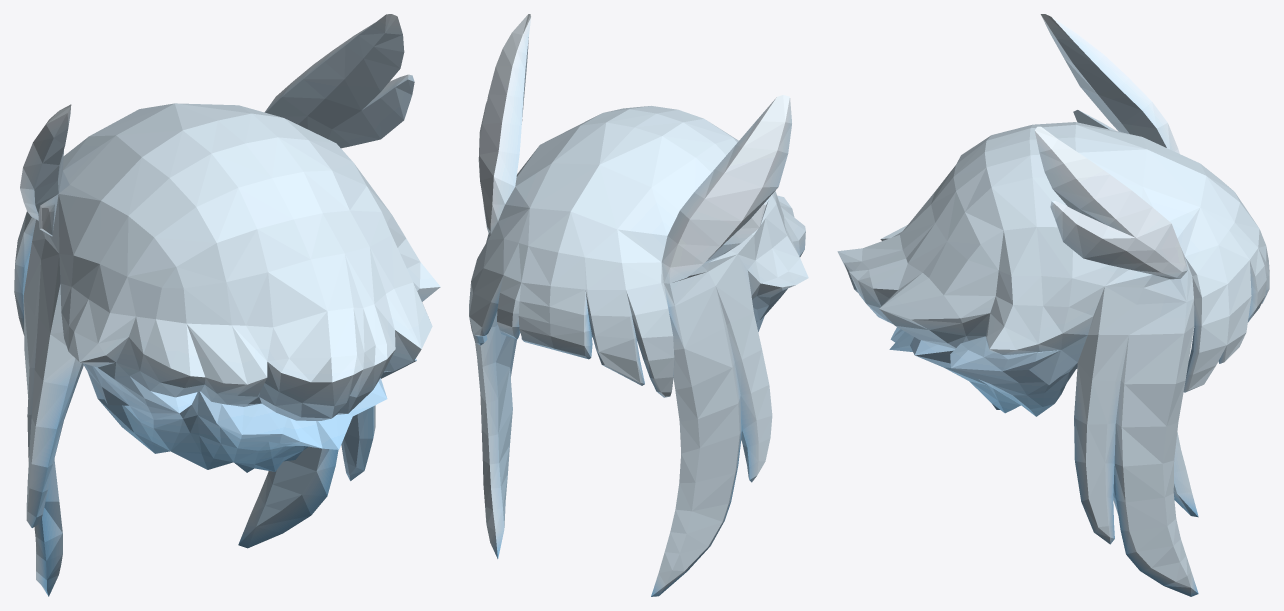
The model's file is CharSkyKid_Hair_AP30TaperDirector.glb.
3 views of the same model, side by side, from view 1: azimuth 30°, elevation 25°; view 2: azimuth 150°, elevation 25°; view 3: azimuth 270°, elevation 25° (orthographic). The views are drawn at different scales.
Visible parts, largest first — view 1: CharSkyKid_Hair_AP30TaperDirector; view 2: CharSkyKid_Hair_AP30TaperDirector; view 3: CharSkyKid_Hair_AP30TaperDirector.
Boxes of the visible parts, left/top/right/bottom form: CharSkyKid_Hair_AP30TaperDirector: left=14, top=14, right=440, bottom=596; CharSkyKid_Hair_AP30TaperDirector: left=469, top=14, right=808, bottom=596; CharSkyKid_Hair_AP30TaperDirector: left=837, top=14, right=1269, bottom=596.
Bounding box in the file's own units: 3.15 × 4.85 × 3.87.
Materials: 1 (1 with a texture image).
